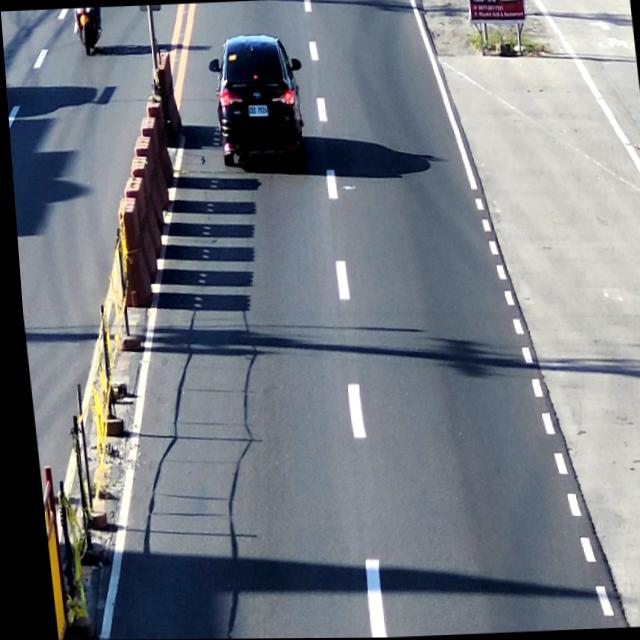Car: (202, 31, 309, 174)
License-Plate: (245, 101, 267, 121)
